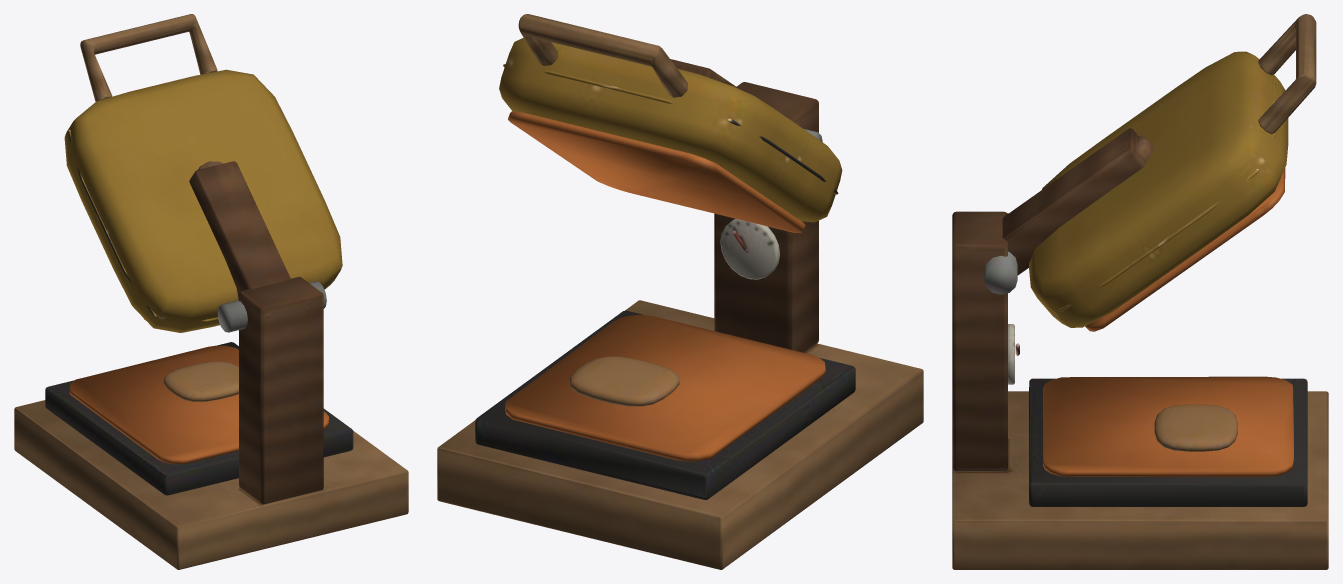
File: heat_press_mustard.glb
3 views of the same model, side by side, from view 1: azimuth 30°, elevation 25°; view 2: azimuth 150°, elevation 25°; view 3: azimuth 270°, elevation 25° (orthographic). The views are drawn at different scales.
Visible parts, largest first — view 1: prop_heat_press_mustard_wood, prop_heat_press_mustard_felt, prop_heat_press_mustard_felt_heat; view 2: prop_heat_press_mustard_wood, prop_heat_press_mustard_felt, prop_heat_press_mustard_felt_heat; view 3: prop_heat_press_mustard_wood, prop_heat_press_mustard_felt, prop_heat_press_mustard_felt_heat.
Boxes of the visible parts, bbox=[...] form: prop_heat_press_mustard_wood: bbox=[14, 14, 408, 569]; prop_heat_press_mustard_felt: bbox=[45, 69, 353, 495]; prop_heat_press_mustard_felt_heat: bbox=[69, 319, 328, 464]; prop_heat_press_mustard_wood: bbox=[437, 14, 923, 569]; prop_heat_press_mustard_felt: bbox=[475, 38, 855, 499]; prop_heat_press_mustard_felt_heat: bbox=[505, 111, 825, 461]; prop_heat_press_mustard_wood: bbox=[952, 14, 1328, 569]; prop_heat_press_mustard_felt: bbox=[984, 51, 1307, 506]; prop_heat_press_mustard_felt_heat: bbox=[1043, 168, 1293, 477].
Size of the model in its own units: 0.44 by 0.731 by 0.54.
3 materials, 3 textured.
